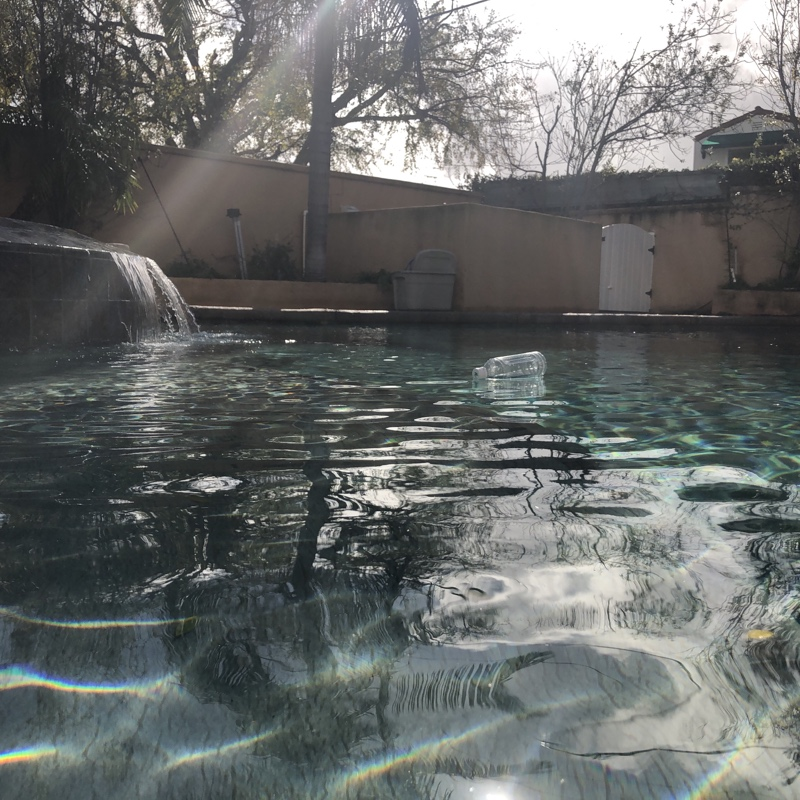Plastic Bottle: (469, 348, 549, 390)
